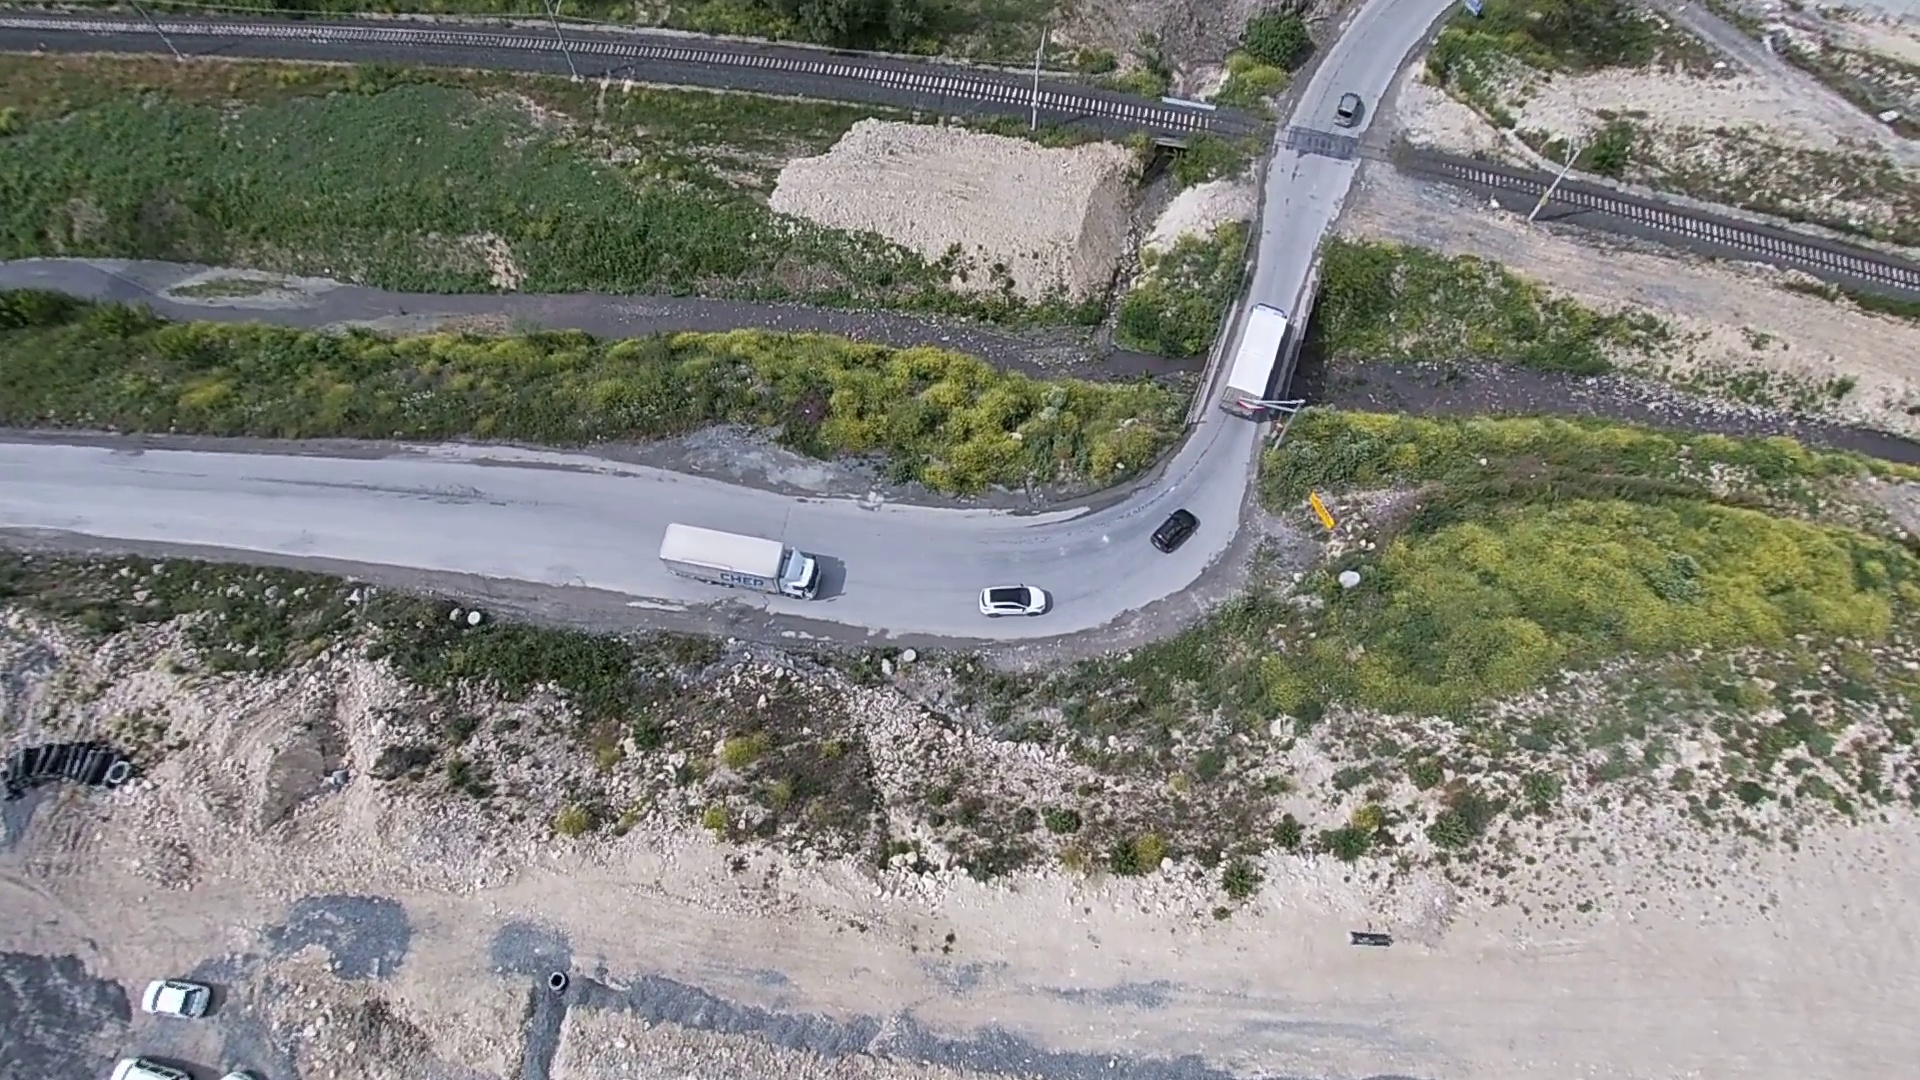arac: (658, 513, 827, 600), (1220, 303, 1288, 429), (140, 973, 227, 1025), (111, 1056, 208, 1080), (1149, 512, 1200, 556), (978, 585, 1058, 615), (1338, 88, 1362, 129)
